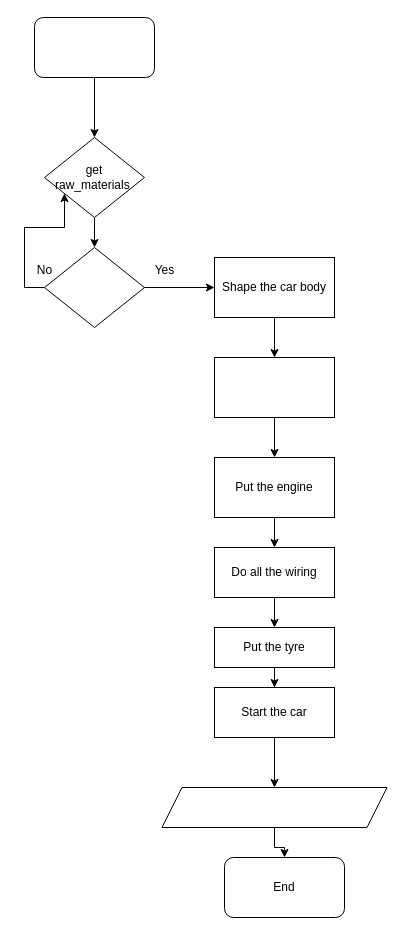
This 405x935 diagram has some shape labels left out. The box of each missing label's shape, as (x1, y1, x2, y2) in pixels:
if raw_materials == true0: (44, 246, 144, 328)
Paint the car body: (214, 356, 334, 418)
Print You can drive the car safely: (161, 786, 387, 828)
Start: (34, 16, 154, 78)
